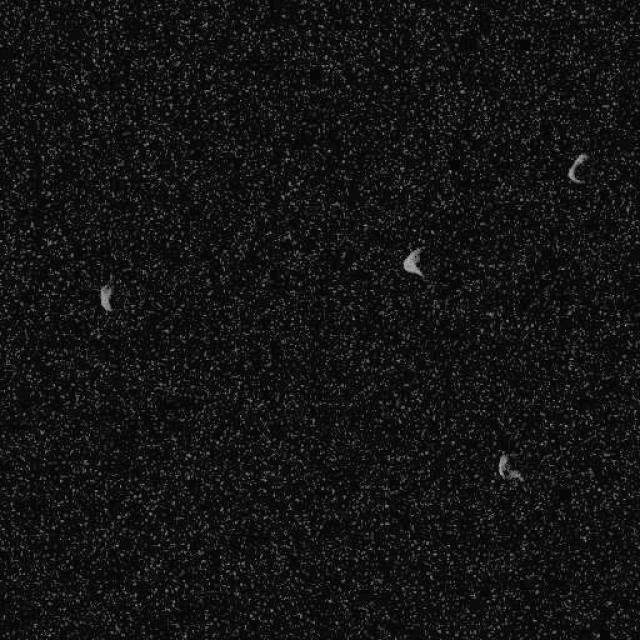D2: (496, 450, 524, 482), (401, 245, 425, 277), (565, 151, 587, 184), (98, 282, 114, 312)
